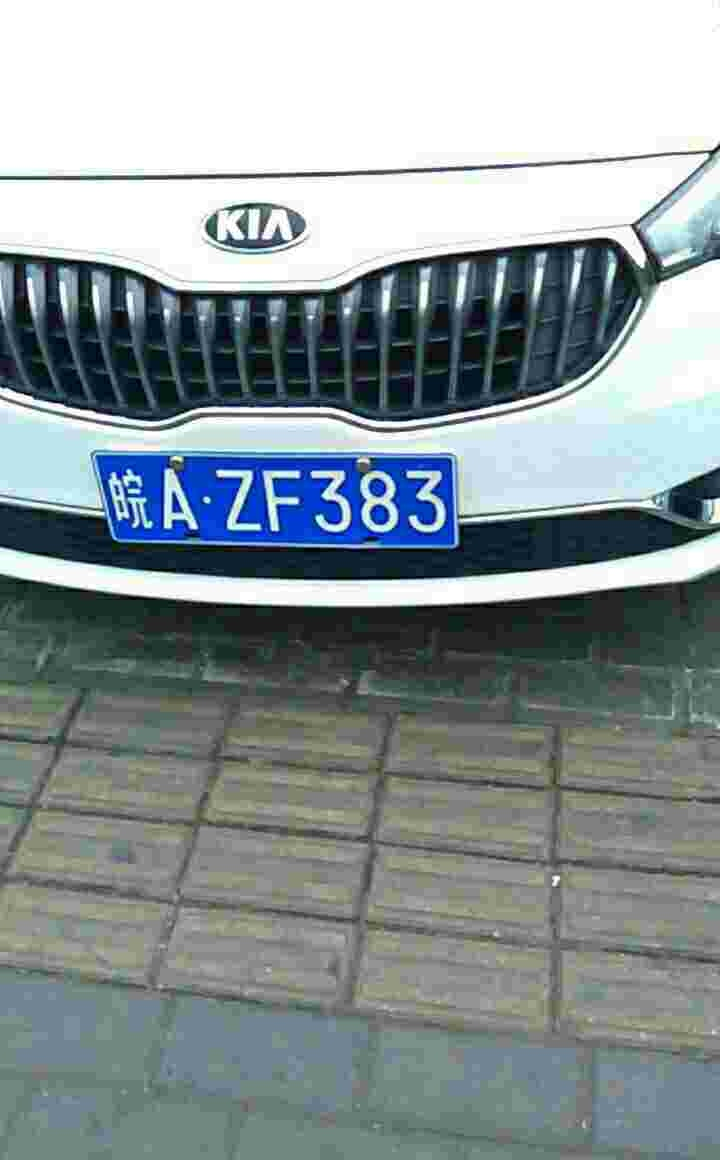license_plate: (100, 448, 453, 559)
